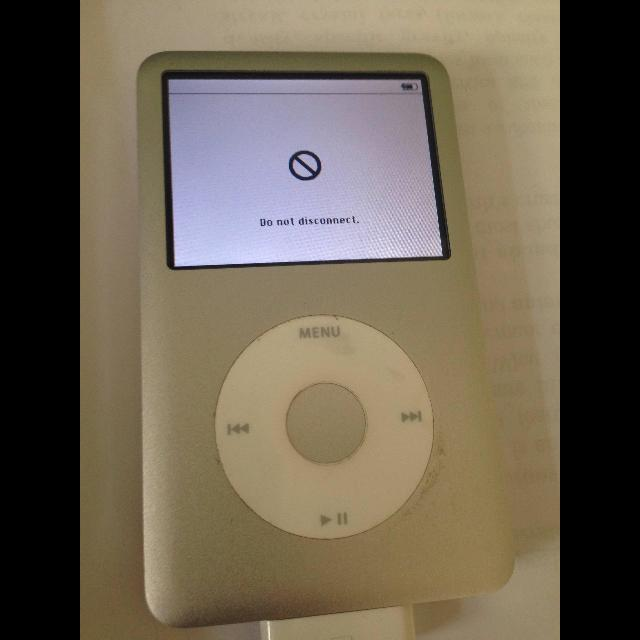Music-Player: (108, 22, 508, 628)
